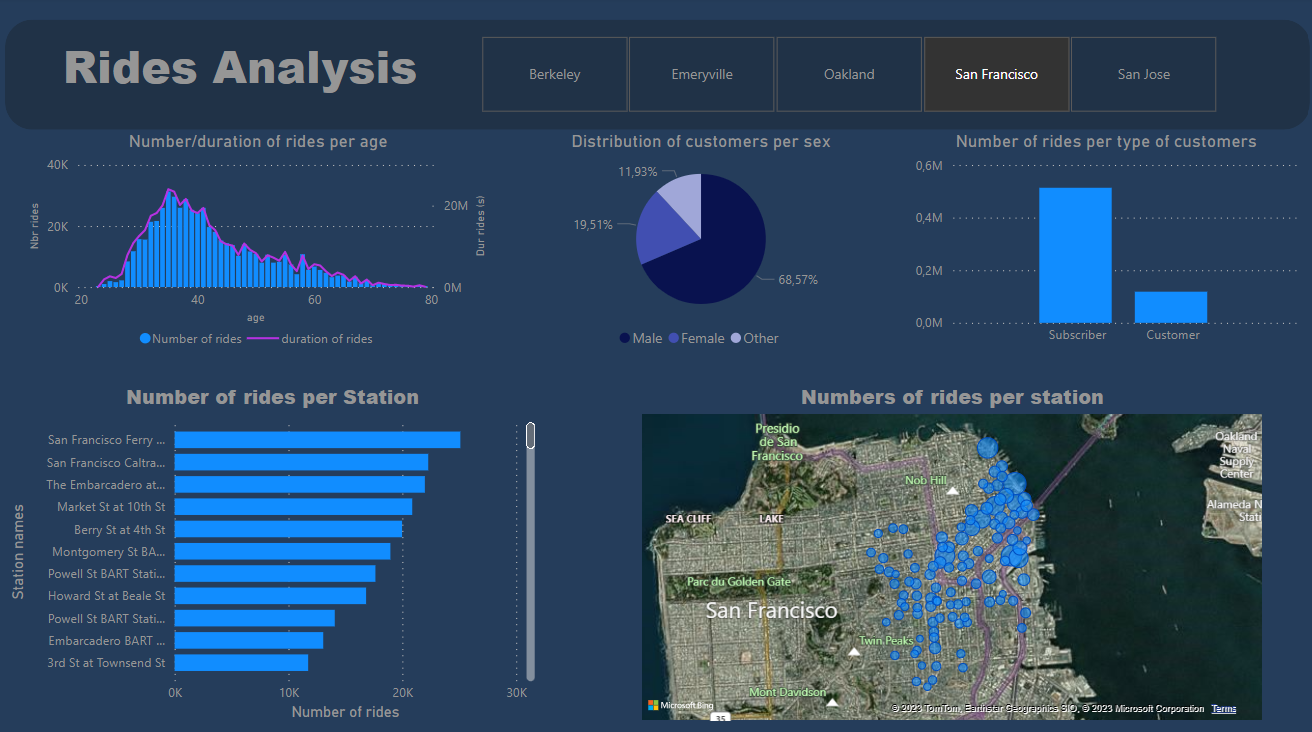

This screenshot's page, from the dashboard's own definition file:
{"tool":"powerbi","page":{"name":"Page 2","canvas":[1280,720],"ordinal":1},"visuals":[{"type":"shape","box":[10,21.2,1260,106.2],"z":500},{"type":"textbox","box":[60,31.2,383.8,86.2],"z":1000},{"type":"lineClusteredColumnComboChart","title":"Number/duration of rides per age","fields":{"Category":["Trips_cleaned.age"],"Y":["CountNonNull(Trips_cleaned.trip_id)"],"Y2":["Sum(Trips_cleaned.duration_sec)"]},"box":[27.5,128.8,452.5,218.8],"z":2000},{"type":"pieChart","title":"Distribution of customers per sex","fields":{"Category":["Gender.name"],"Y":["CountNonNull(Trips_cleaned.trip_id)"]},"box":[480,128.8,402.5,218.8],"z":3000},{"type":"columnChart","title":"Number of rides per type of customers","fields":{"Category":["Trips_cleaned.subscriber_type"],"Y":["CountNonNull(Trips_cleaned.trip_id)"]},"box":[882.5,128.8,378.8,215],"z":4000},{"type":"barChart","title":"Number of rides per Station","fields":{"Category":["Trips_cleaned.start_station_name"],"Y":["CountNonNull(Trips_cleaned.trip_id)"]},"box":[9.6,371.5,516.2,331.7],"z":5000},{"type":"map","title":"Numbers of rides per station","fields":{"Y":["Coordinates.lat"],"X":["Coordinates.lon"],"Size":["CountNonNull(Trips_cleaned.start_station_name)"]},"box":[620,371.2,607.5,331.2],"z":6000},{"type":"slicer","fields":{"Values":["Regions.name"]},"box":[443.8,31.2,758.8,86.2],"z":7000}]}

Visuals, with their boxes in screenshot pixels (x1, y1, x2, y2), scaled from the page's 1280x720 canvas onto the 1312x732 screenshot:
shape: <region>10, 22, 1302, 130</region>
textbox: <region>61, 32, 455, 119</region>
"Number/duration of rides per age" lineClusteredColumnComboChart: <region>28, 131, 492, 353</region>
"Distribution of customers per sex" pieChart: <region>492, 131, 905, 353</region>
"Number of rides per type of customers" columnChart: <region>905, 131, 1293, 350</region>
"Number of rides per Station" barChart: <region>10, 378, 539, 715</region>
"Numbers of rides per station" map: <region>636, 377, 1258, 714</region>
slicer - Regions.name: <region>455, 32, 1233, 119</region>
